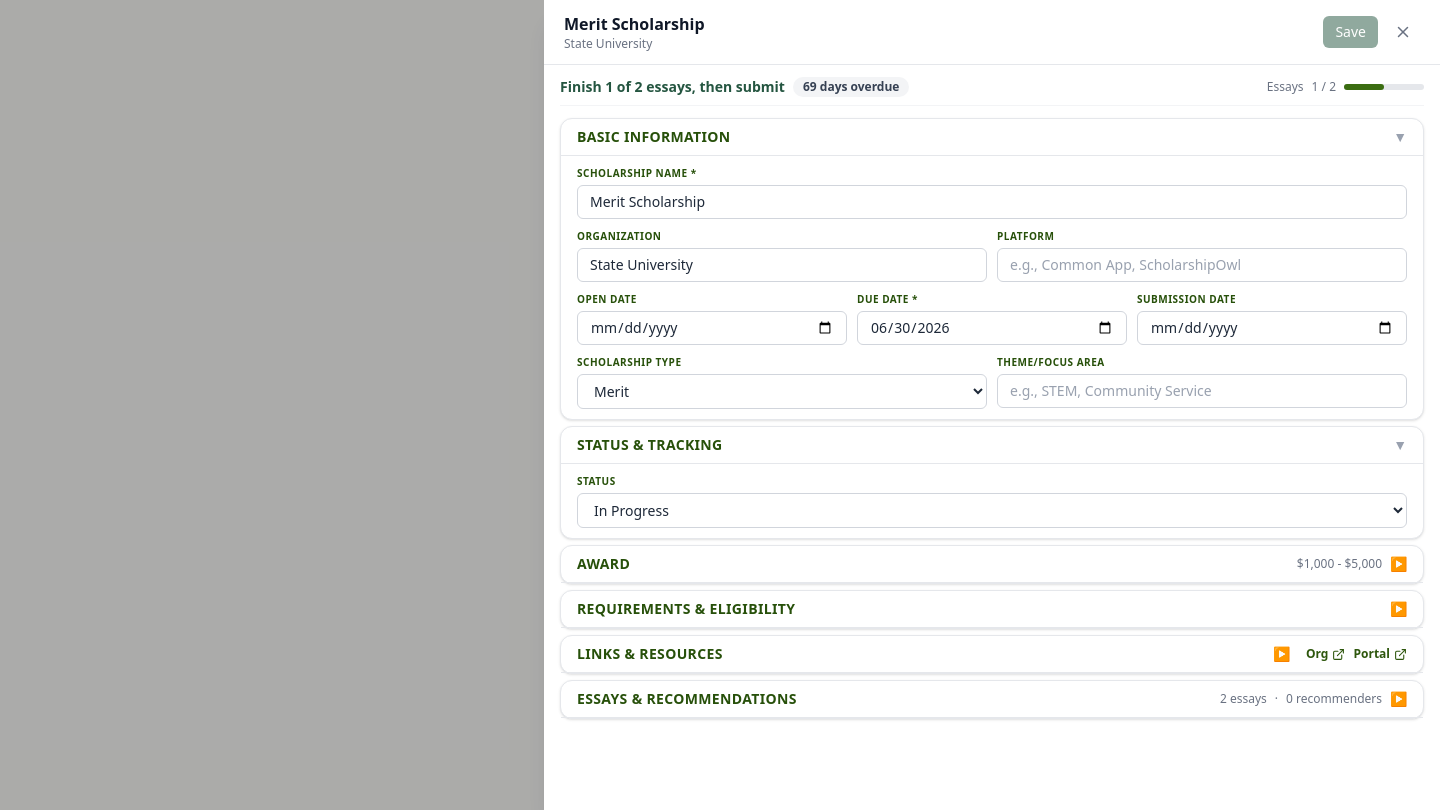
Test: ApplicationPanel › saves changed application fields through the applications API
Replace the text in the field labelled "Organization" with "Updated University" at (782, 265), box [577, 248, 987, 282]
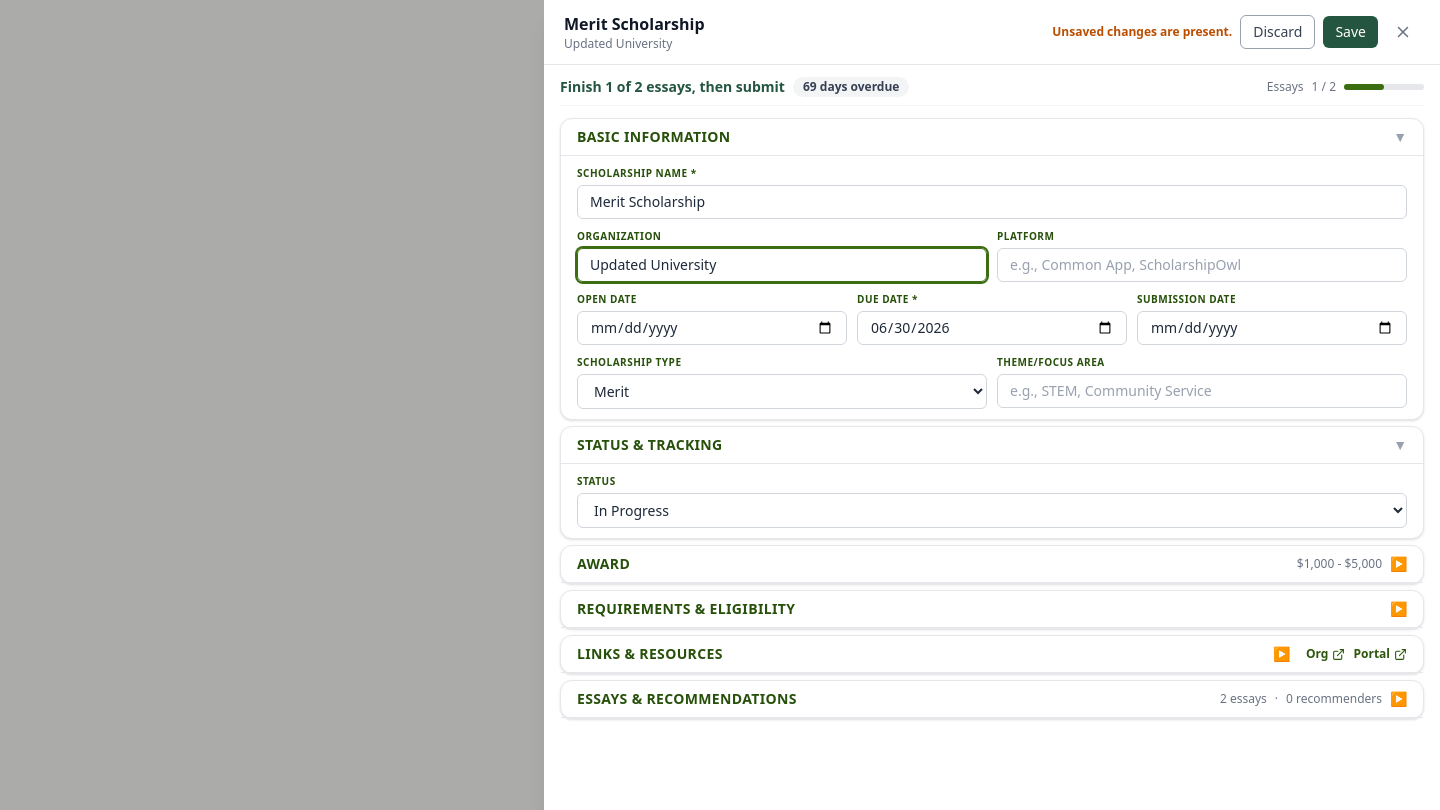
Click the button "Essays & Recommendations 2 essays · 0 recommenders ▶".
click(687, 698)  # box [561, 681, 1423, 718]
(page scrolled)
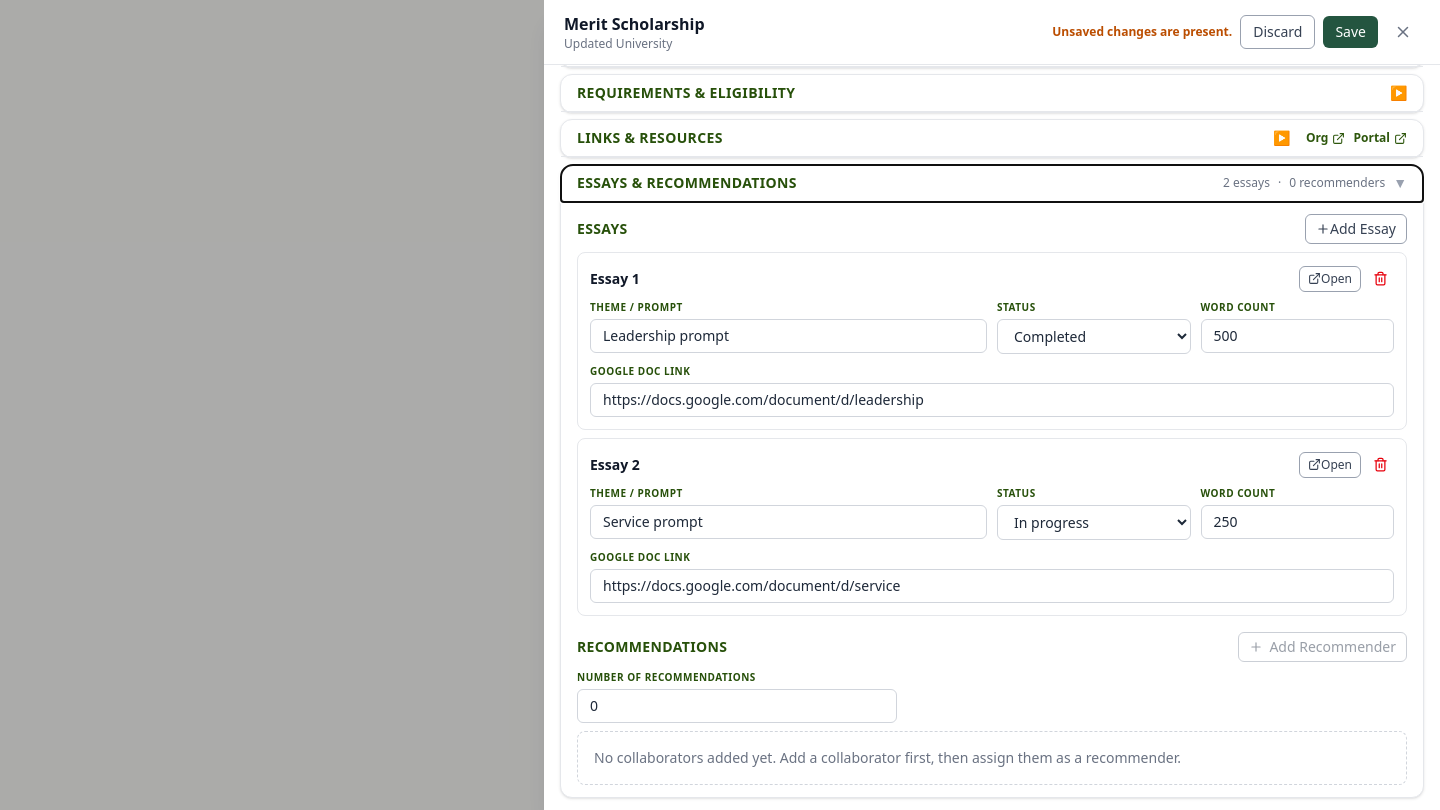
Type "2" into the number field labelled "Number of Recommendations".
click(737, 706); type("2")  # box [577, 689, 897, 723]
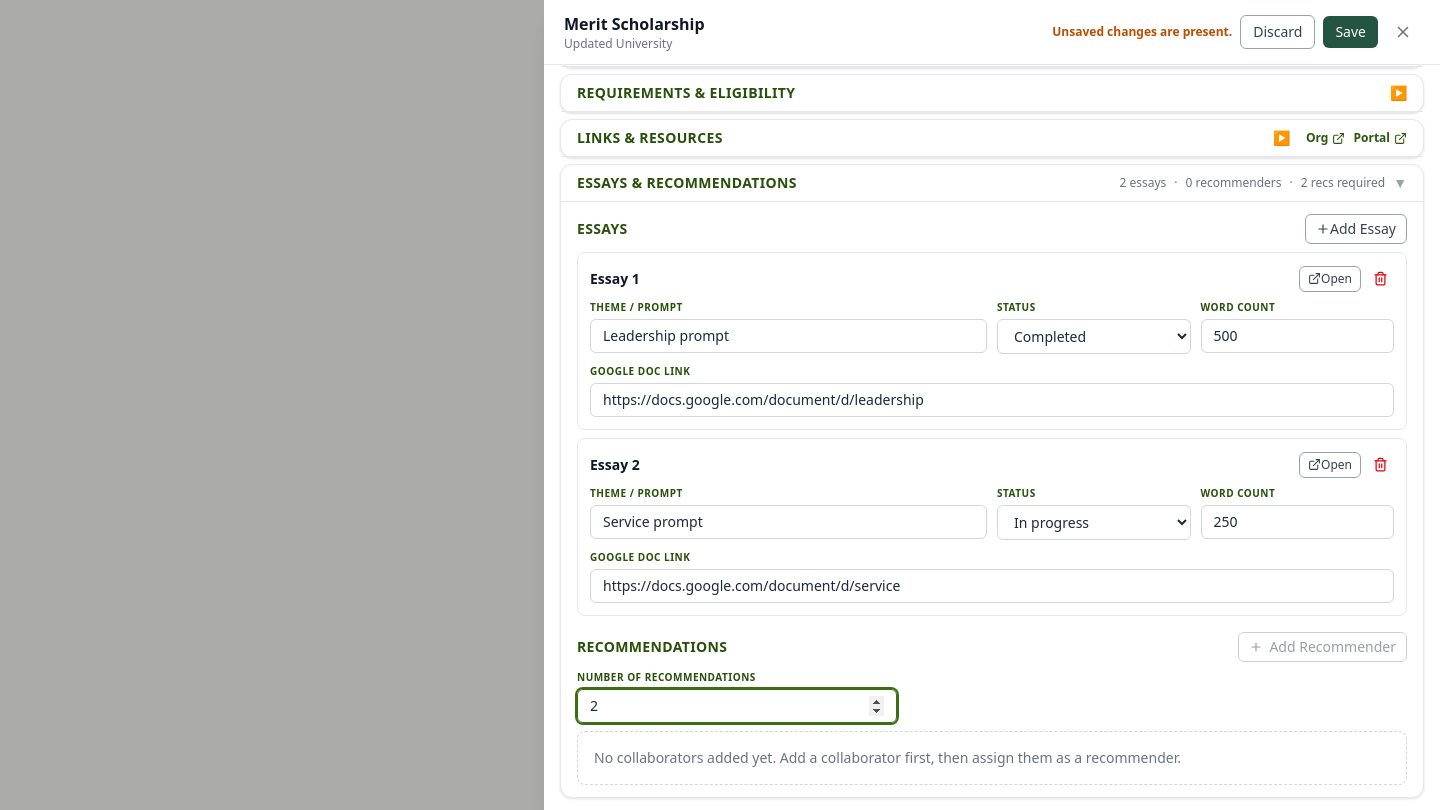
Click the button "Save".
click(1351, 32)  # box [1323, 16, 1378, 48]
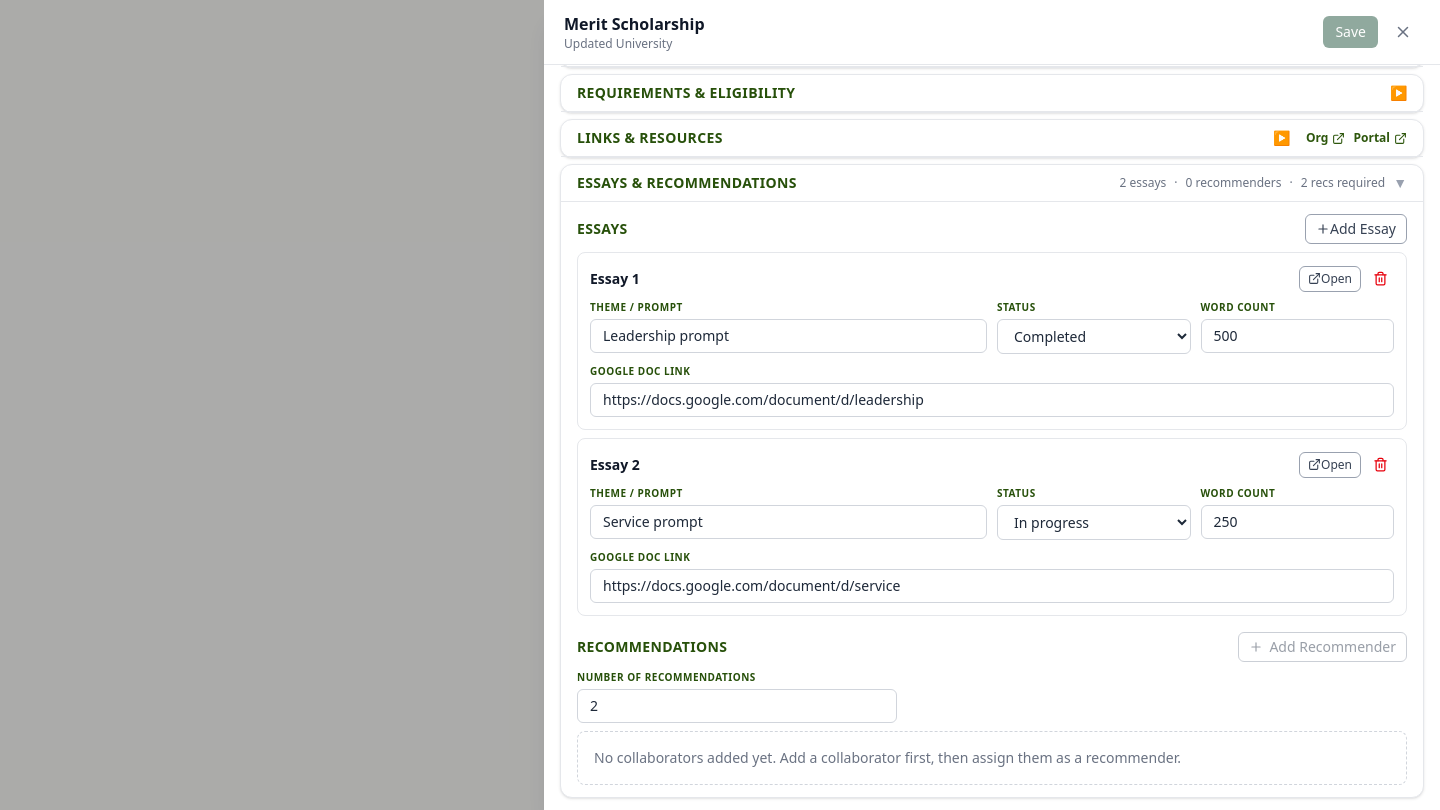
Now the text "Unsaved changes are present." is gone
